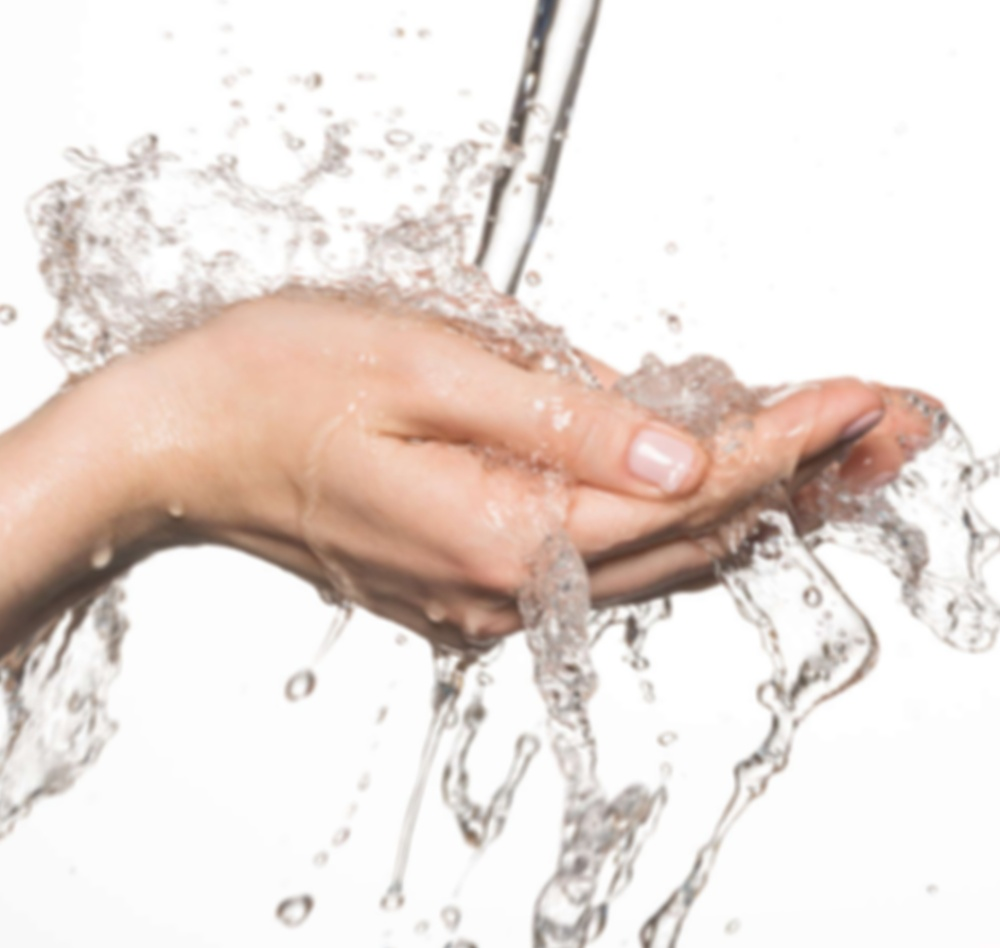washing hand: (0, 0, 999, 943)
